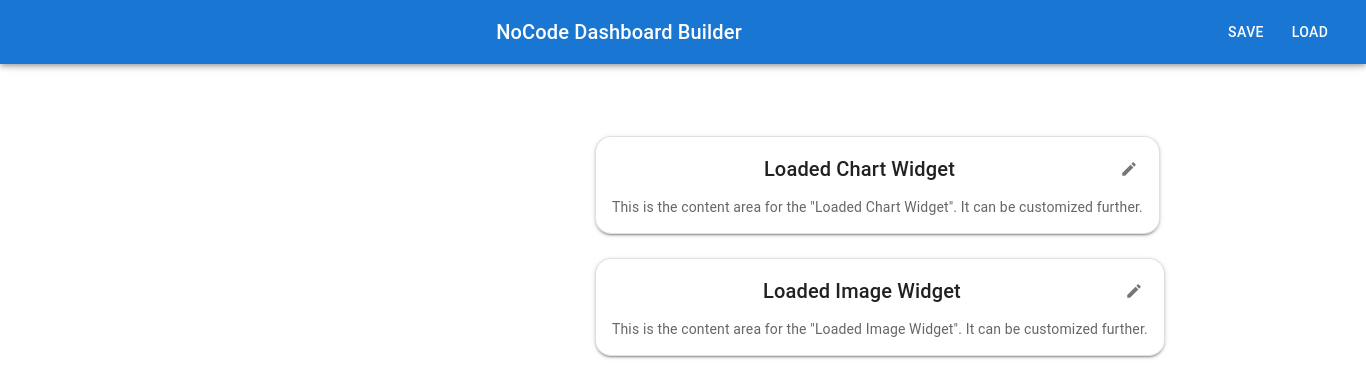
Scenario: App Component › handleLoadDashboard loads widgets from localStorage and updates state
Expected: the heading "Loaded Chart Widget" is shown, [764,157,955,181]
Expected: the heading "Loaded Image Widget" is shown, [763,279,961,303]
Click the button "Load" at (1310, 32), box [1278,14,1342,50]
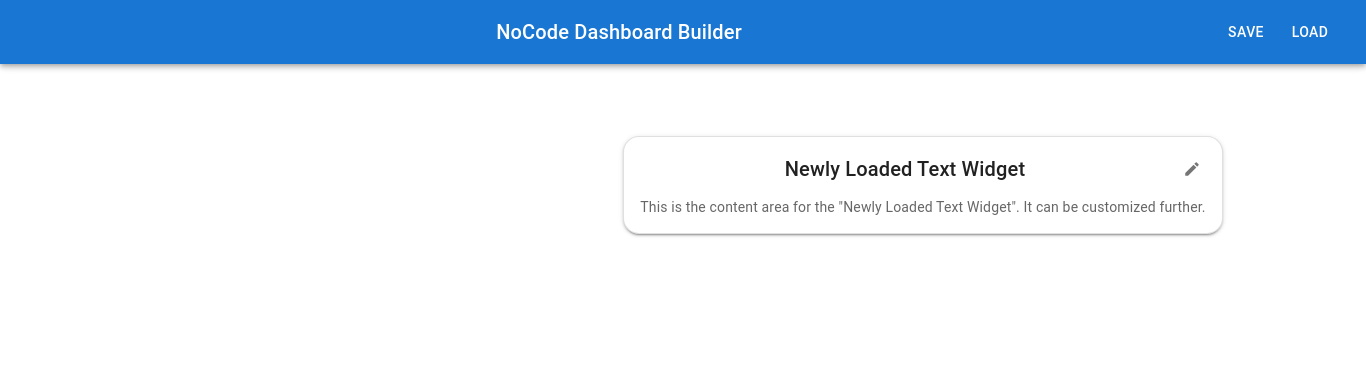
Result: the heading "Newly Loaded Text Widget" is shown at [785,157,1025,181]
Result: the heading "Loaded Chart Widget" is gone
